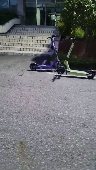beam: (28, 34, 64, 70)
gcooter: (57, 36, 96, 78)
